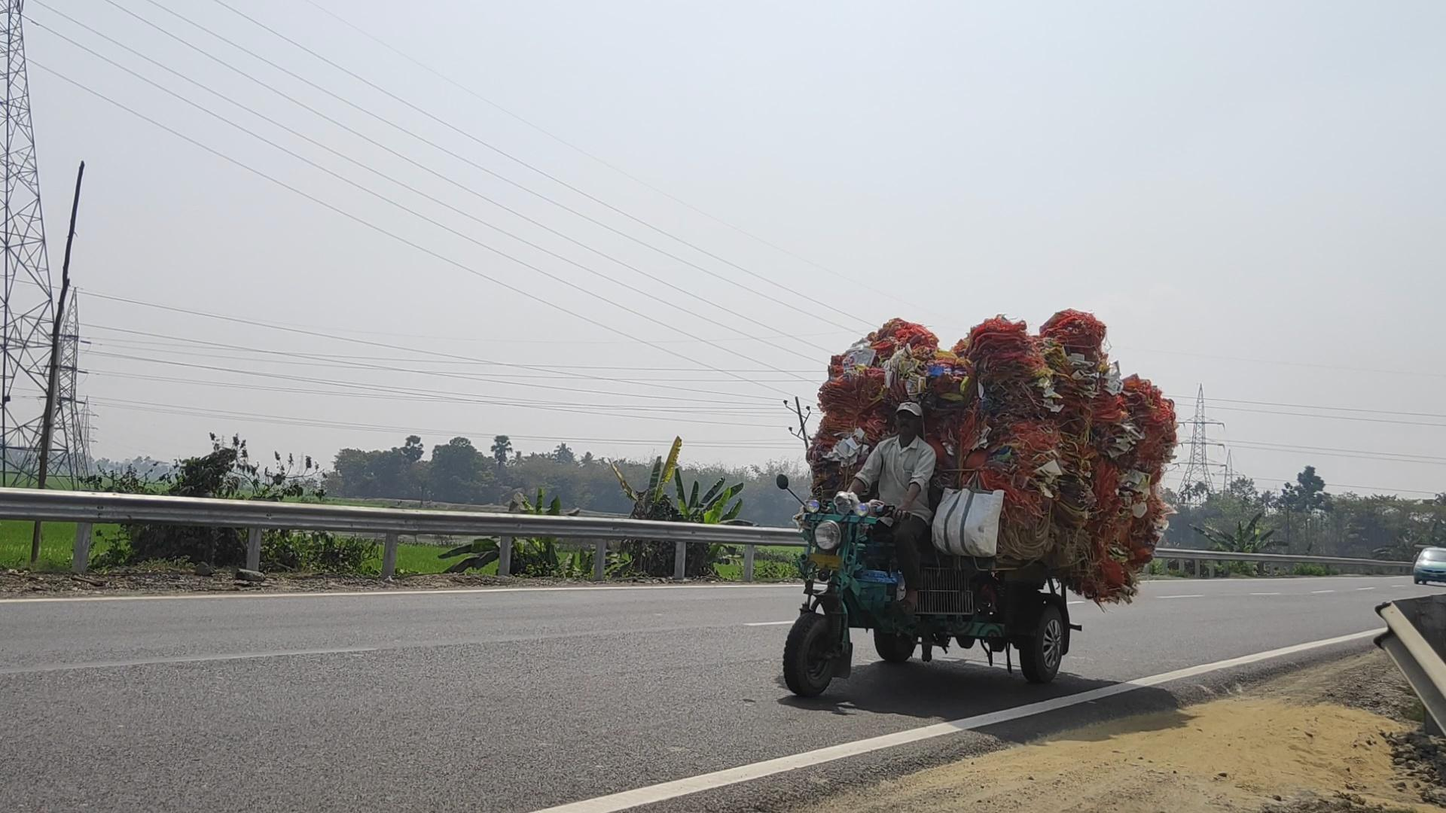car: (1414, 547, 1446, 586)
